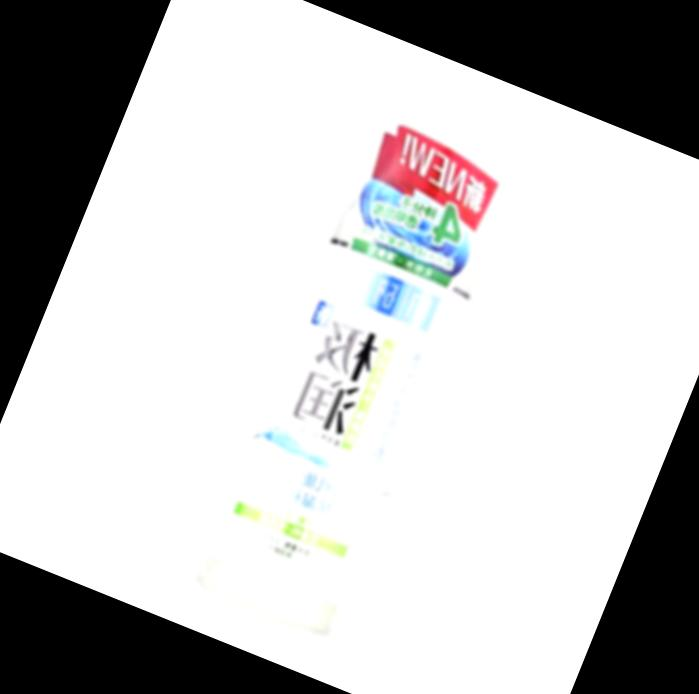cosmetic: (198, 93, 531, 634)
